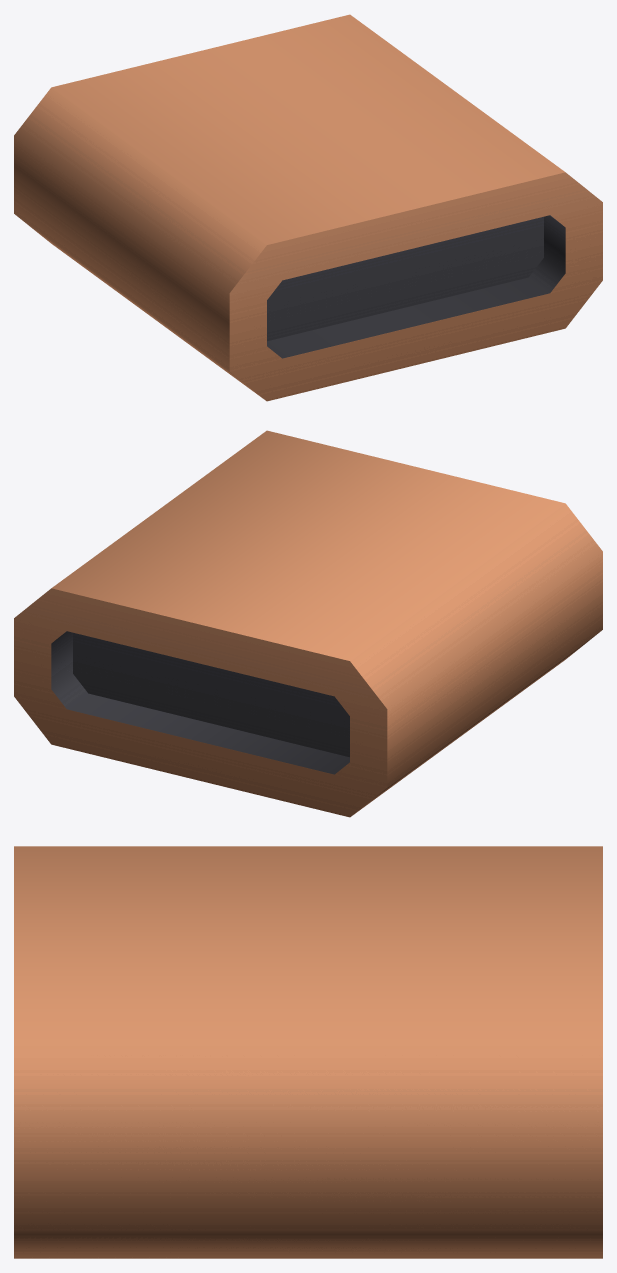
File: conveyor.glb
3 renders of one model, top to bottom at view 1: azimuth 30°, elevation 25°; view 2: azimuth 150°, elevation 25°; view 3: azimuth 270°, elevation 25°, orthographic. The views are drawn at different scales.
Visible parts, largest first — view 1: conveyor; view 2: conveyor; view 3: conveyor.
Boxes of the visible parts, x1,y1,x2,y2 form: conveyor: [14, 14, 602, 401]; conveyor: [14, 430, 602, 817]; conveyor: [14, 846, 602, 1258].
Size of the model in its own units: 1 by 0.4 by 1.
1 material, 1 textured.
